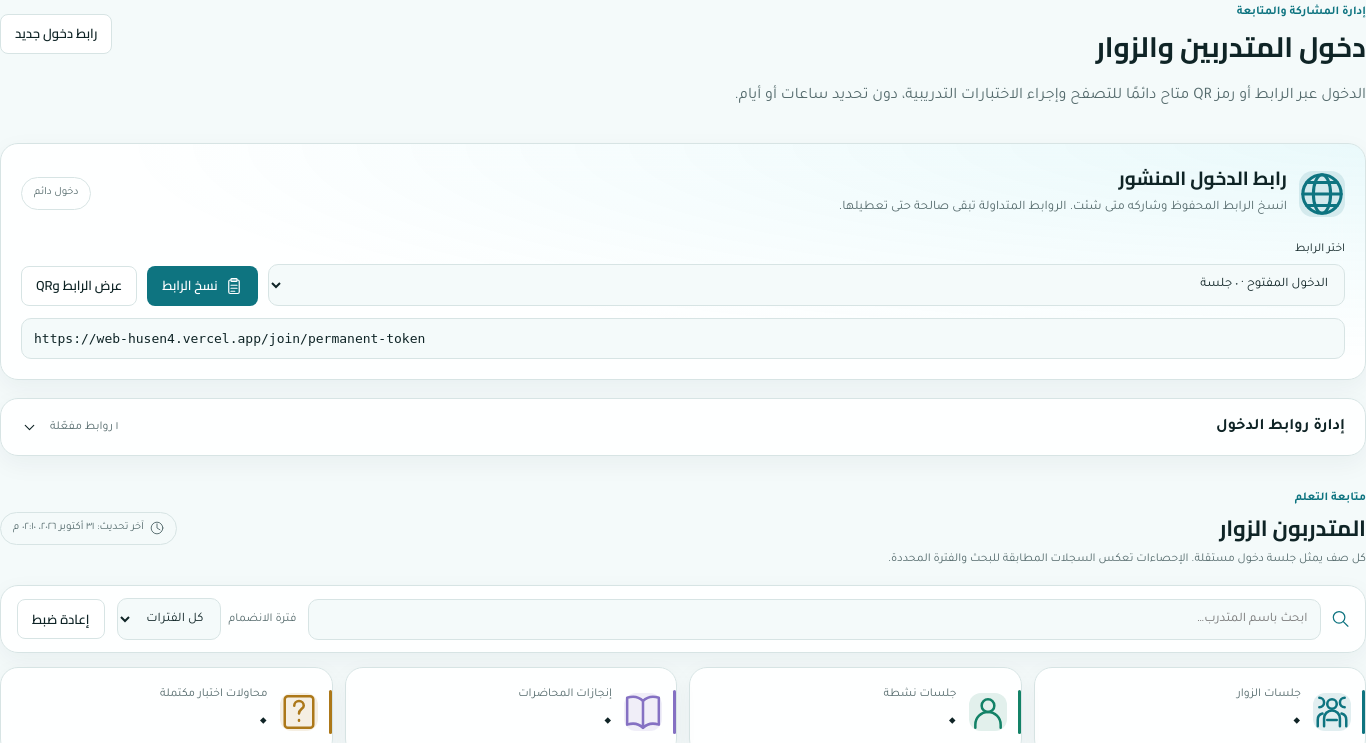
Test: permanent training access administration › offers manual copy when the browser blocks the clipboard
expect the field named "رابط الدخول المحفوظ" is shown: met, box [21, 318, 1345, 359]
Click the button "نسخ الرابط" at point(202, 286), box [147, 266, 258, 306]
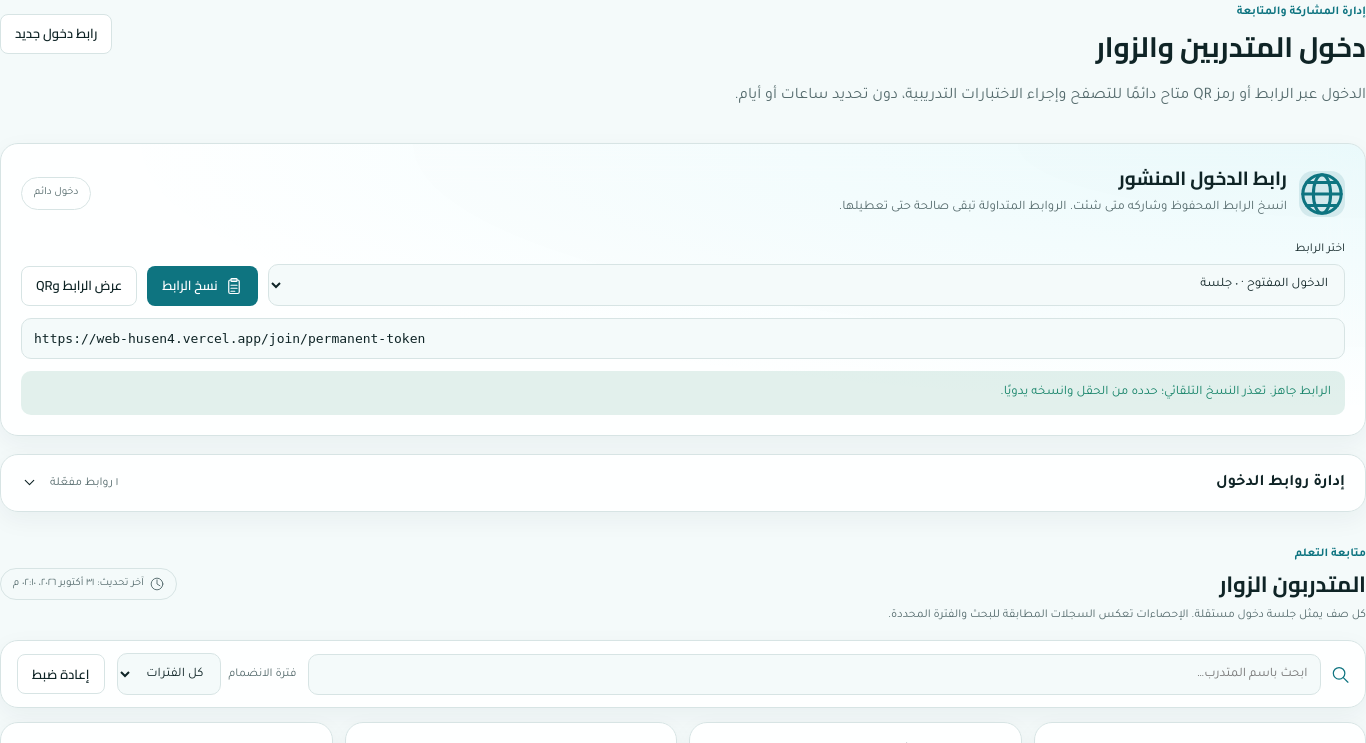
expect the field named "رابط الدخول المحفوظ" holds "https://web-husen4.vercel.app/join/permanent-token": met, box [21, 318, 1345, 359]
expect the text "الرابط جاهز. تعذر النسخ التلقائي؛ حدده من الحقل وانسخه يدويًا." is shown: met, box [21, 371, 1345, 415]
